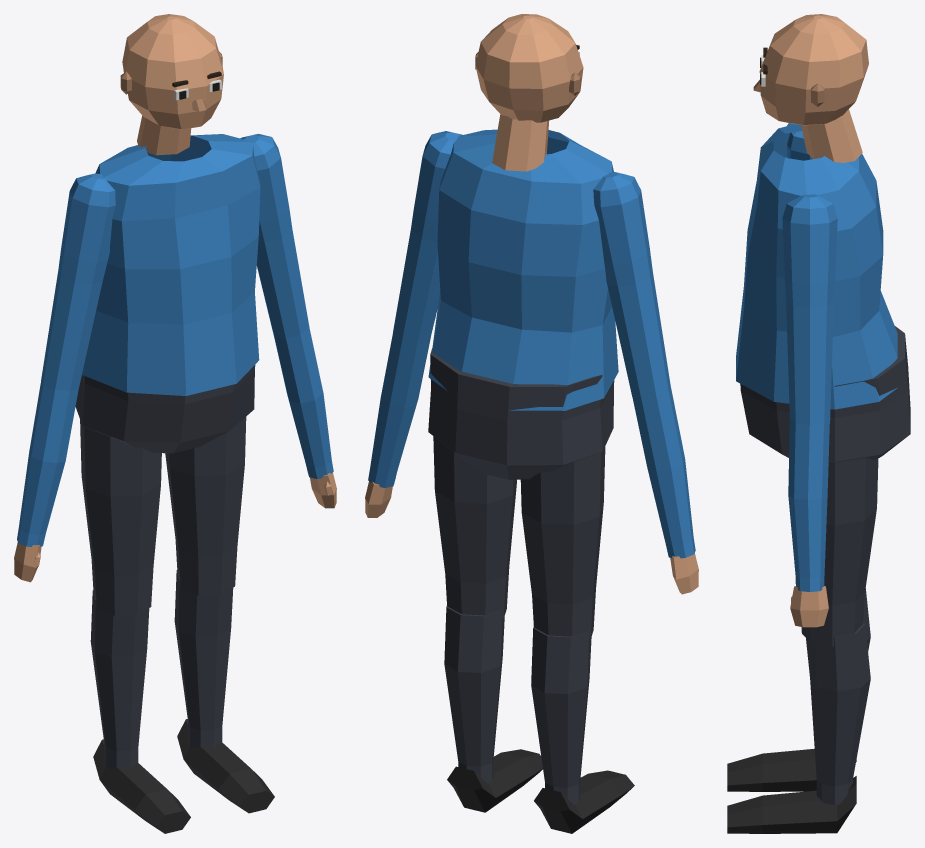
Rendered from senior_h_rond.glb.
The picture shows the model from 3 angles, left to right: view 1: azimuth 30°, elevation 25°; view 2: azimuth 150°, elevation 25°; view 3: azimuth 270°, elevation 25°; orthographic projection. The views are drawn at different scales.
Visible parts, largest first — view 1: torse, jambe_d, tibia_g, tibia_d, tete, jambe_g, bras_d, bassin, bras_g, avant_bras_d, avant_bras_g; view 2: torse, bassin, jambe_d, tete, tibia_d, tibia_g, jambe_g, bras_d, avant_bras_d, bras_g, avant_bras_g; view 3: torse, tibia_g, tete, bras_g, jambe_g, bassin, avant_bras_g, tibia_d, bras_d.
Part boxes in pixels (x1,y1,x2,y2): torse: [82, 134, 260, 395]; jambe_d: [80, 419, 161, 615]; tibia_g: [174, 570, 274, 813]; tibia_d: [90, 590, 190, 833]; tete: [120, 14, 223, 155]; jambe_g: [165, 417, 246, 595]; bras_d: [41, 173, 115, 390]; bassin: [75, 365, 255, 453]; bras_g: [240, 133, 309, 339]; avant_bras_d: [14, 383, 78, 582]; avant_bras_g: [273, 327, 336, 508]; torse: [428, 129, 618, 410]; bassin: [428, 348, 614, 479]; jambe_d: [520, 446, 605, 640]; tete: [475, 14, 583, 171]; tibia_d: [531, 626, 634, 833]; tibia_g: [444, 606, 542, 812]; jambe_g: [433, 436, 516, 618]; bras_d: [593, 172, 670, 399]; avant_bras_d: [632, 386, 698, 594]; bras_g: [393, 131, 462, 344]; avant_bras_g: [365, 334, 431, 517]; torse: [736, 124, 897, 409]; tibia_g: [727, 623, 870, 833]; tete: [753, 14, 868, 162]; bras_g: [782, 194, 837, 425]; jambe_g: [801, 457, 878, 646]; bassin: [740, 326, 910, 462]; avant_bras_g: [788, 418, 829, 627]; tibia_d: [727, 588, 870, 791]; bras_d: [787, 123, 812, 160].
Size of the model in its own units: 0.7217 by 1.69 by 0.3544.
Materials: 1 (1 with a texture image).
